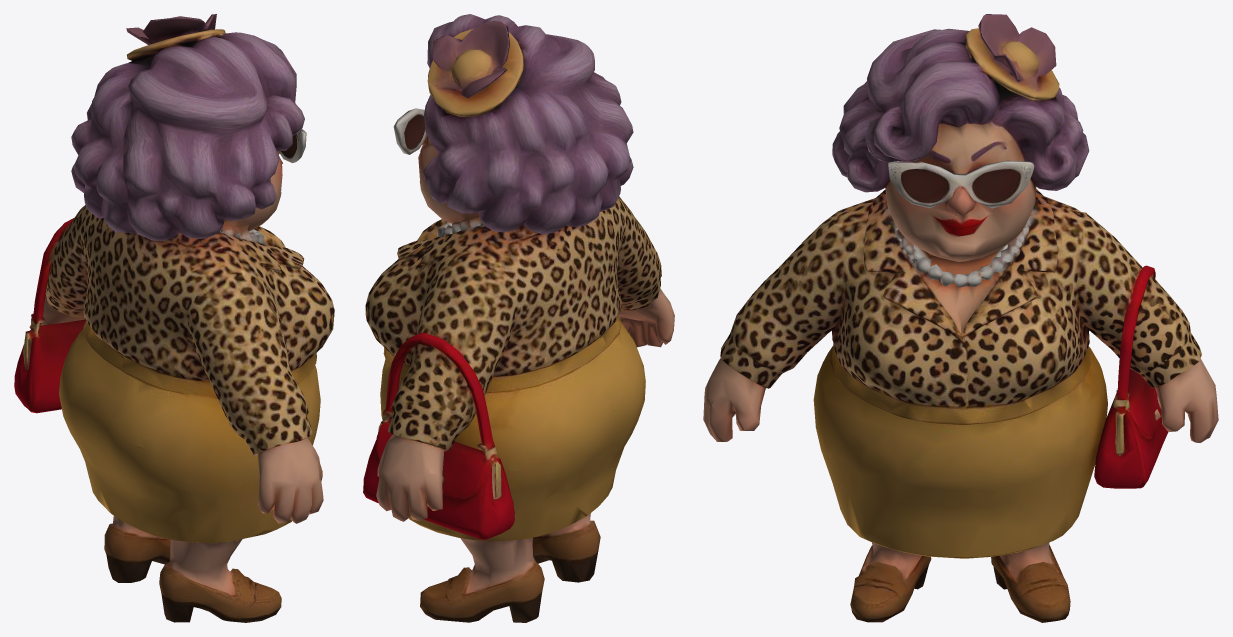
Rendered from senora.glb.
3 renders of one model, left to right at view 1: azimuth 30°, elevation 25°; view 2: azimuth 150°, elevation 25°; view 3: azimuth 270°, elevation 25°, orthographic. The views are drawn at different scales.
Visible parts, largest first — view 1: tripo_node_02efaf3b-a4c0-41c9-9a38-d7abb6c67d5b; view 2: tripo_node_02efaf3b-a4c0-41c9-9a38-d7abb6c67d5b; view 3: tripo_node_02efaf3b-a4c0-41c9-9a38-d7abb6c67d5b.
Boxes of the visible parts, x1,y1,x2,y2 form: tripo_node_02efaf3b-a4c0-41c9-9a38-d7abb6c67d5b: [14, 14, 334, 622]; tripo_node_02efaf3b-a4c0-41c9-9a38-d7abb6c67d5b: [363, 14, 674, 622]; tripo_node_02efaf3b-a4c0-41c9-9a38-d7abb6c67d5b: [703, 14, 1218, 622].
Size of the model in its own units: 0.4018 by 1 by 0.7946.
Materials: 1 (1 with a texture image).
